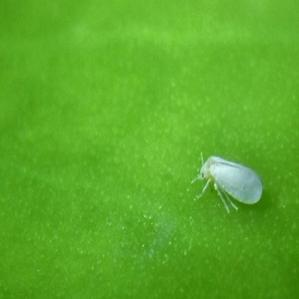Silverleaf whitefly: (186, 143, 267, 226)
